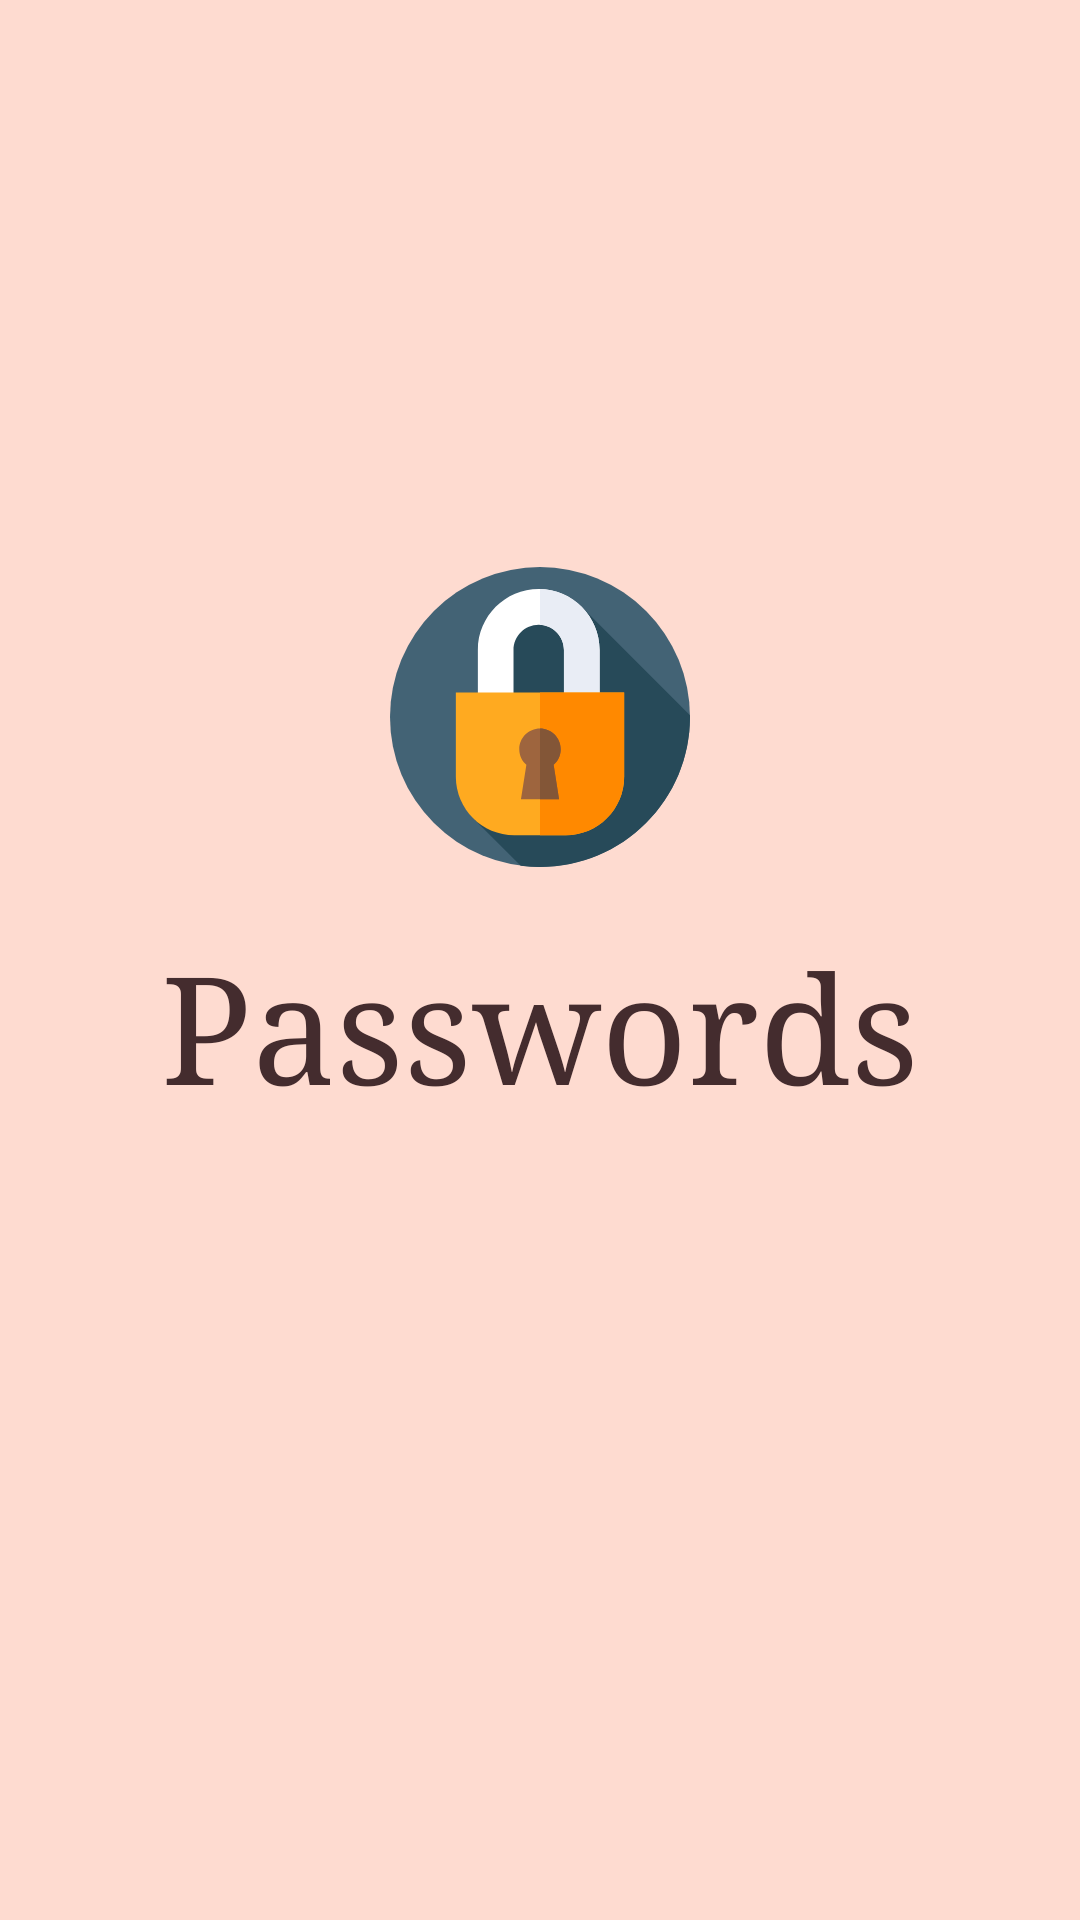

Locate icon controls on the screen. Image size 1080×1920, boxes as {"left": x1, "top": y1, "right": x2, "bottom": y2}.
lock: {"left": 390, "top": 567, "right": 690, "bottom": 867}
